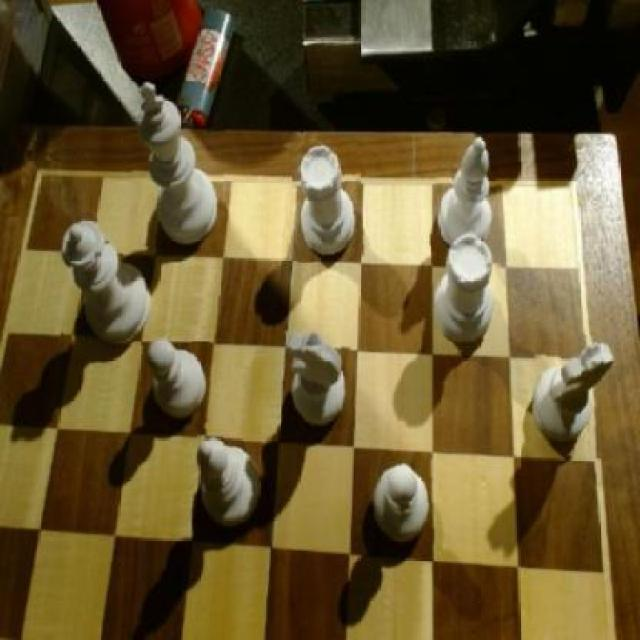black-rook: (194, 429, 272, 534), (436, 134, 496, 255)
white-bishop: (132, 82, 225, 249)
white-king: (534, 334, 616, 460), (288, 326, 355, 433)
white-knight: (144, 337, 210, 426), (371, 460, 436, 548)
white-pawn: (61, 215, 156, 344)
white-queen: (292, 140, 364, 262), (431, 231, 502, 353)
